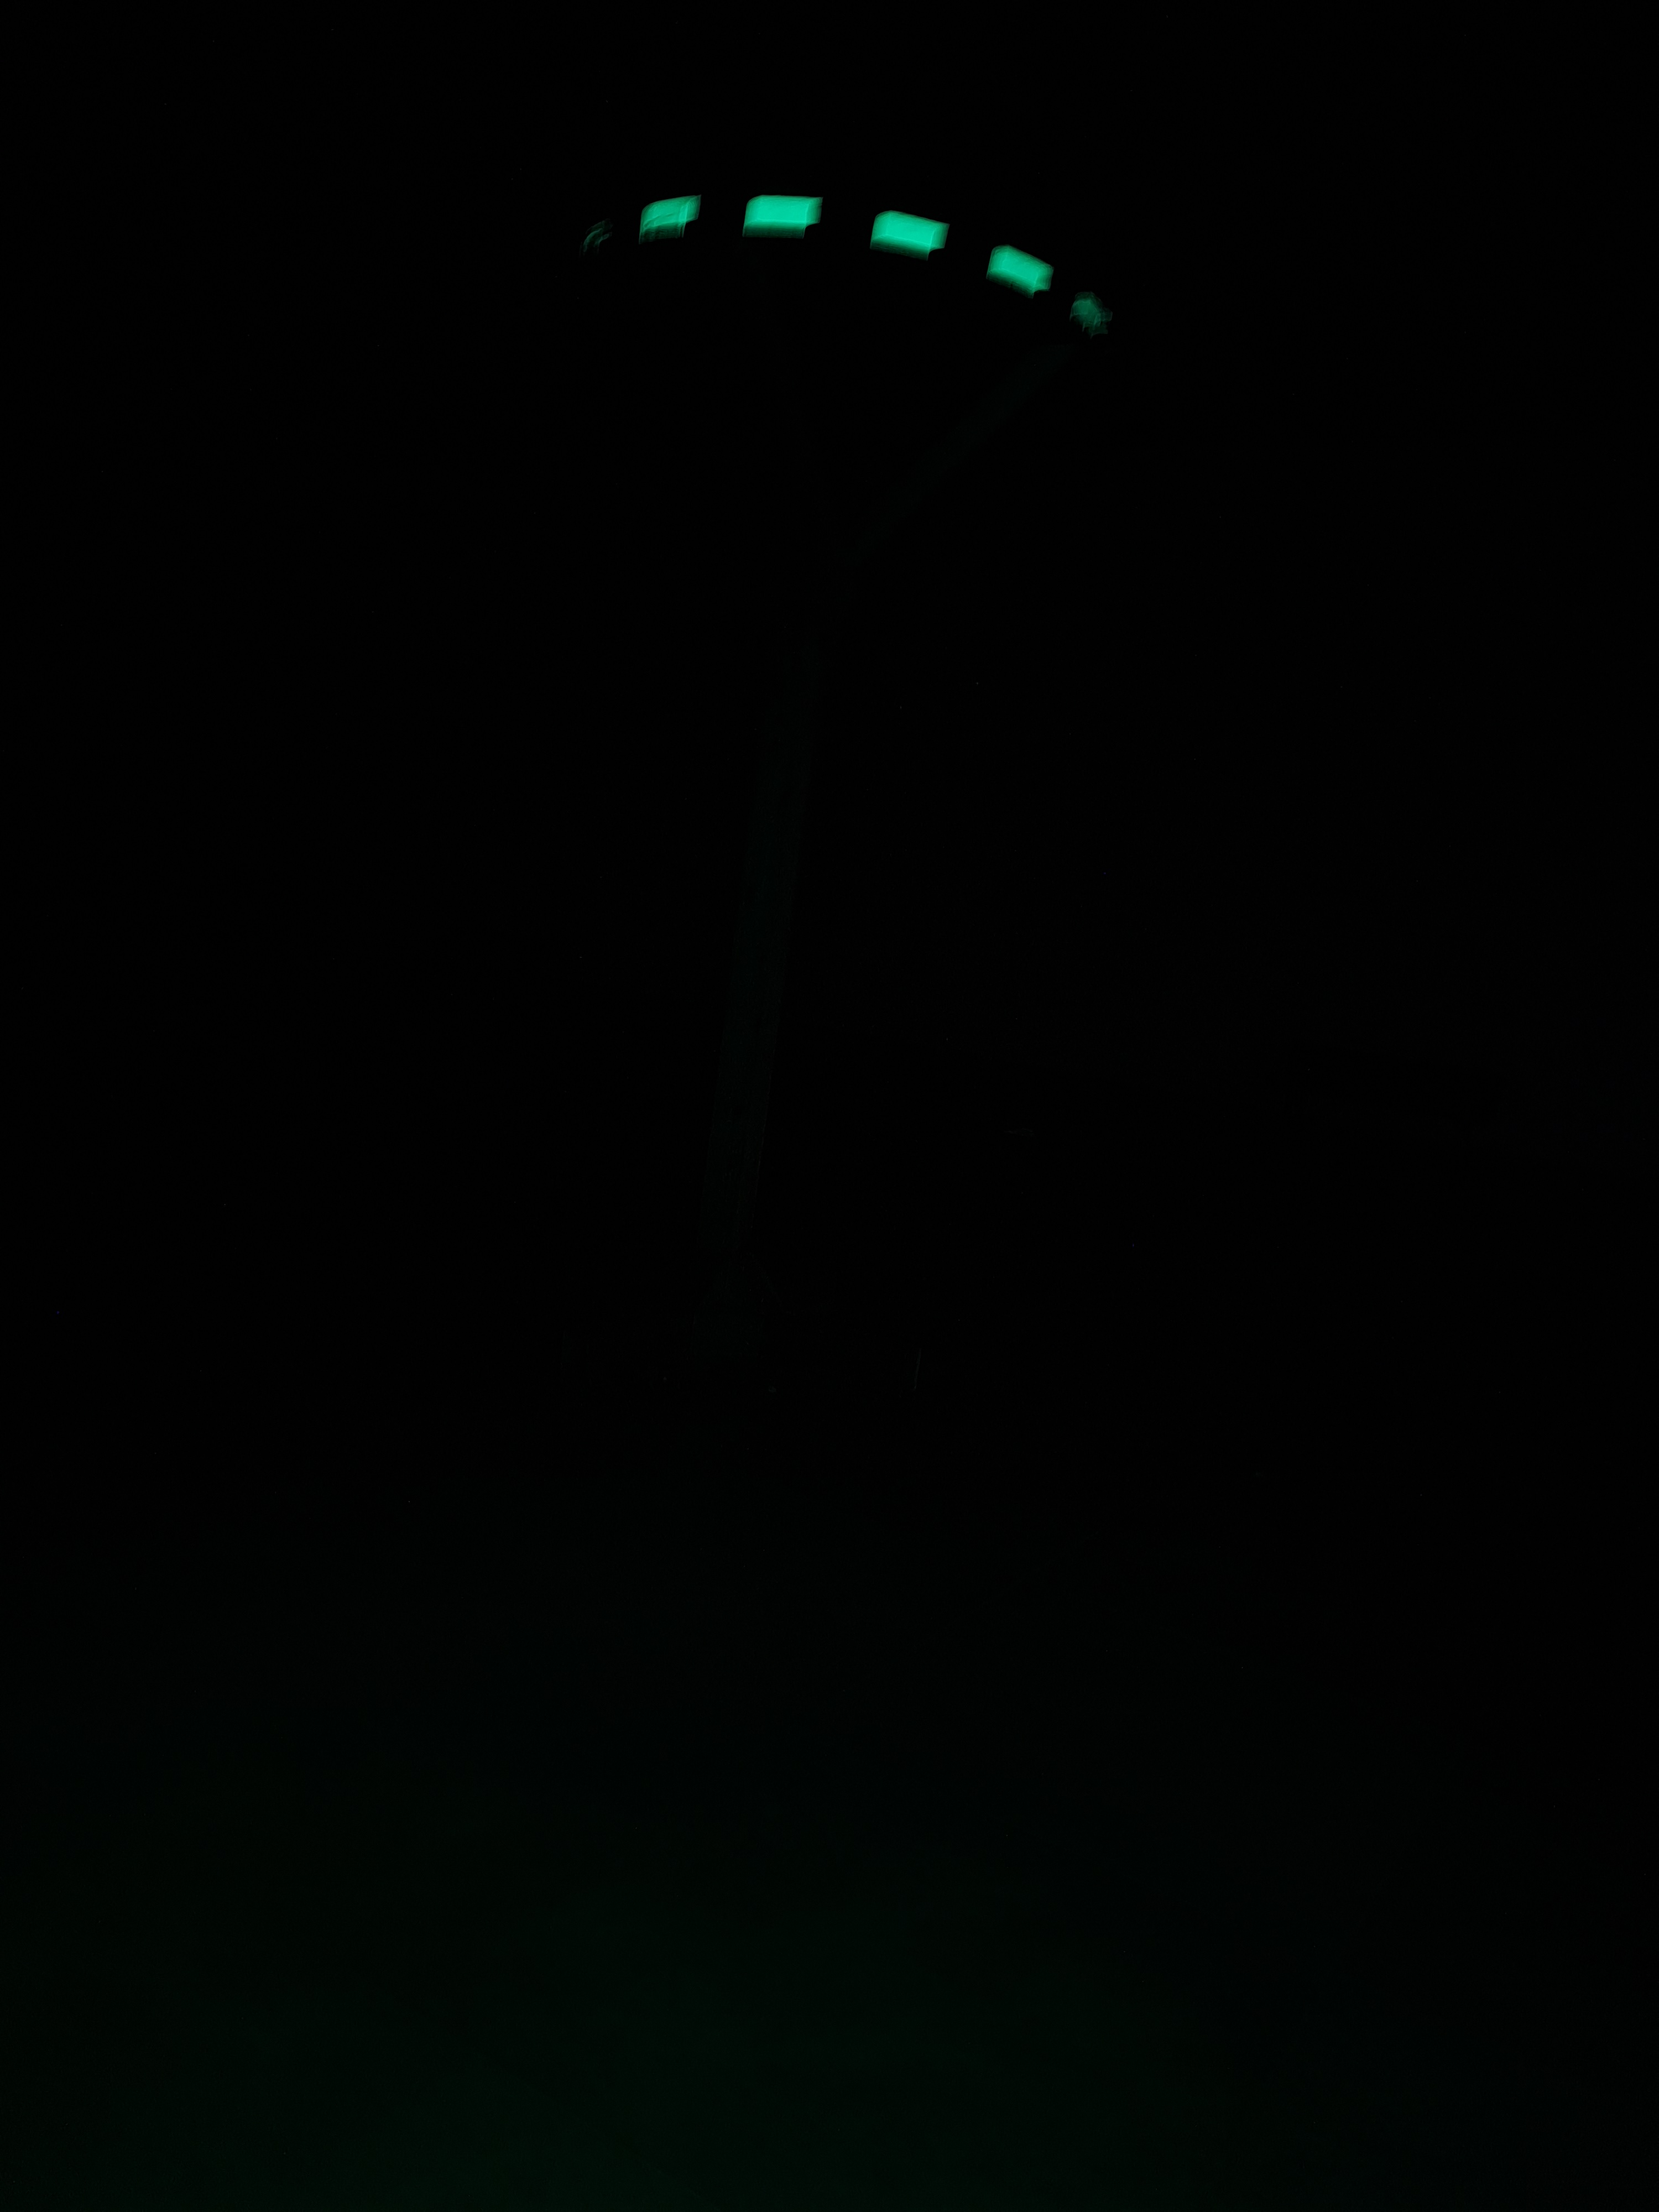hoop: (568, 172, 1117, 350)
